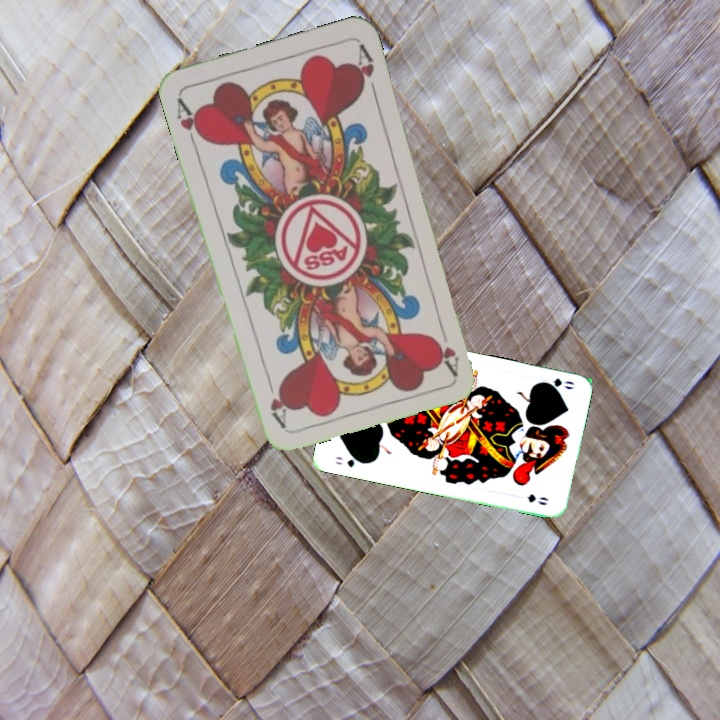GO: (536, 374, 577, 392), (331, 453, 368, 470)
HA: (172, 93, 207, 151), (431, 318, 462, 377)
